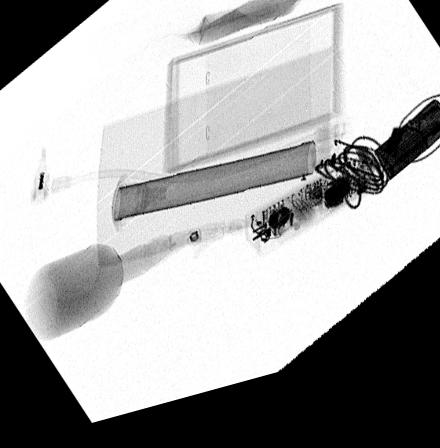Lighter: (374, 122, 440, 201)
